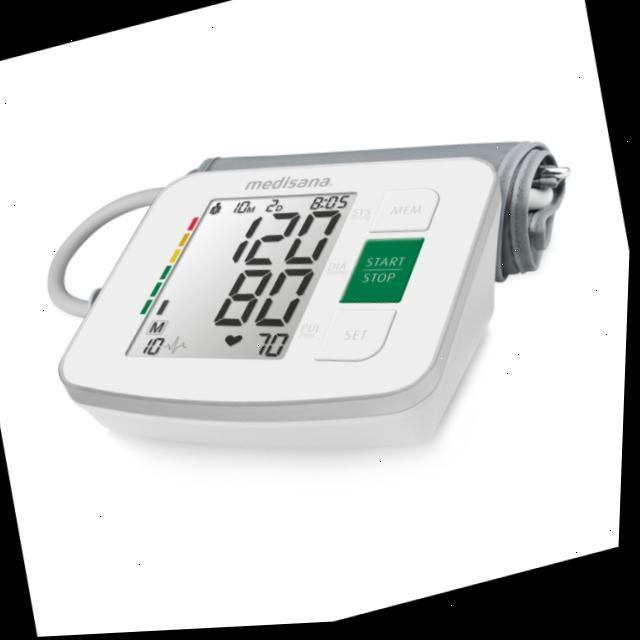dia: (205, 264, 321, 335)
pul: (239, 327, 301, 368)
ssd: (123, 134, 359, 419)
sys: (220, 209, 346, 268)
